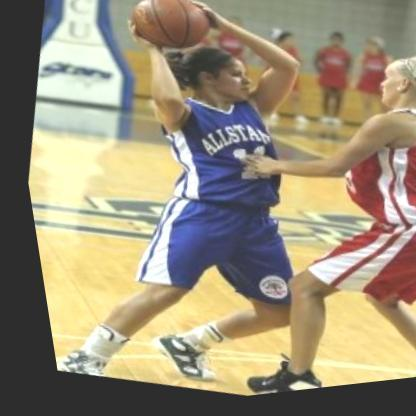basketball: (121, 0, 219, 65)
